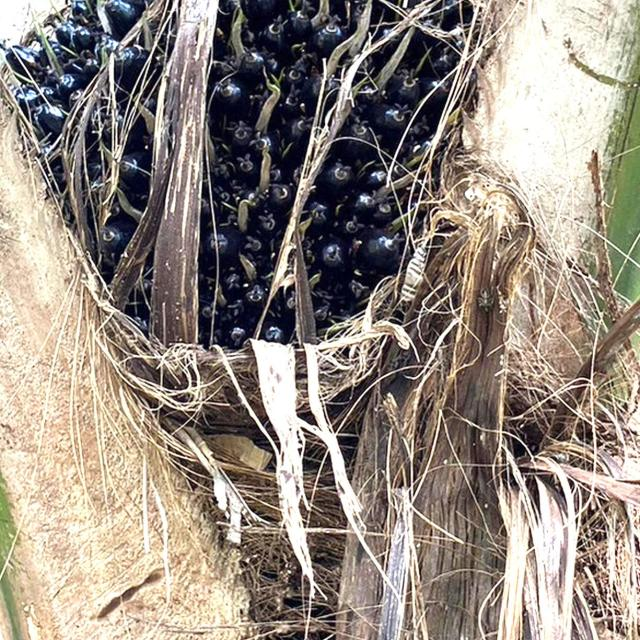unripe: (2, 2, 532, 394)
